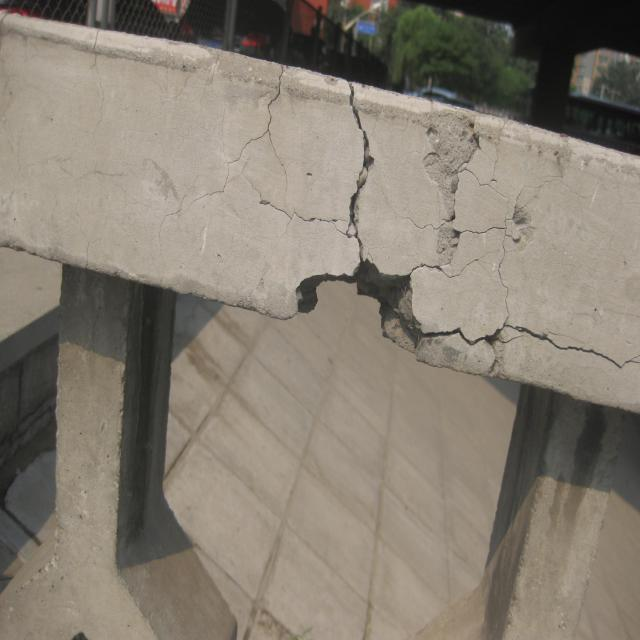concrete spalling: (294, 256, 421, 352), (417, 104, 479, 264)
multi-branched crack: (380, 121, 640, 375), (146, 62, 374, 258)
